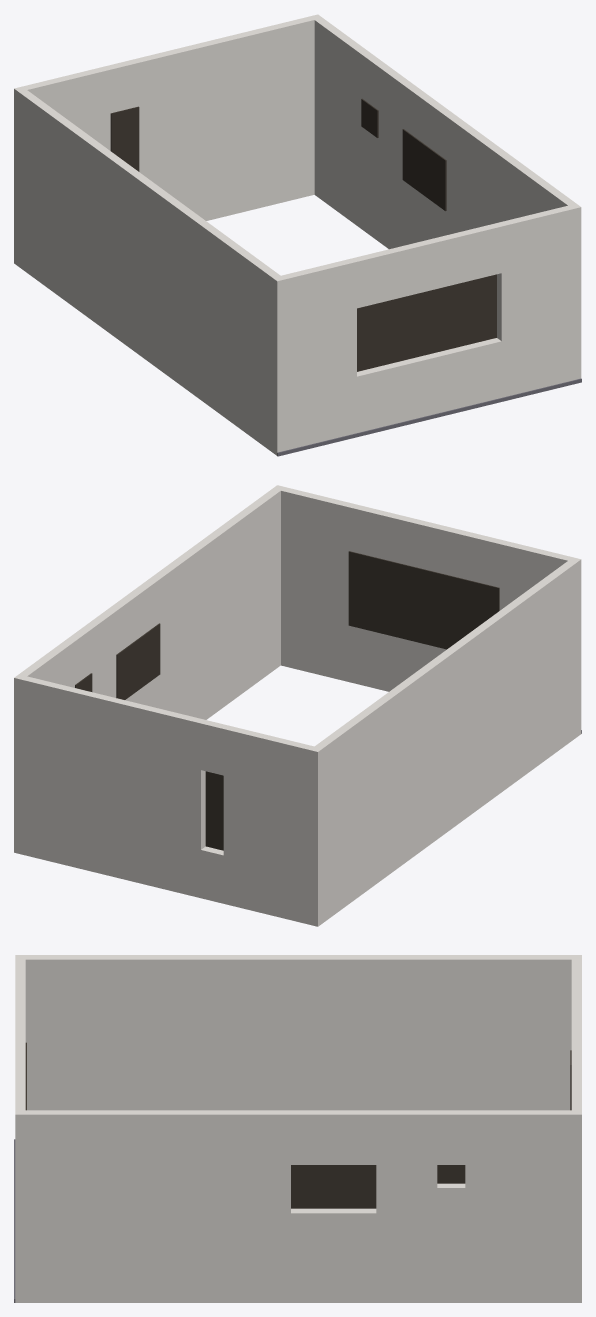
Rendered from SM_Floor_NarrowUpperWindowEndR_White_546_Back_01.gltf.
3 renders of one model, top to bottom at view 1: azimuth 30°, elevation 25°; view 2: azimuth 150°, elevation 25°; view 3: azimuth 270°, elevation 25°, orthographic. The views are drawn at different scales.
Visible parts, largest first — view 1: SM_Floor_NarrowUpperWindowEndR_White_546_Back_01; view 2: SM_Floor_NarrowUpperWindowEndR_White_546_Back_01; view 3: SM_Floor_NarrowUpperWindowEndR_White_546_Back_01.
Part boxes in pixels (left/top/right/bottom): SM_Floor_NarrowUpperWindowEndR_White_546_Back_01: left=14, top=14, right=581, bottom=456; SM_Floor_NarrowUpperWindowEndR_White_546_Back_01: left=14, top=485, right=581, bottom=926; SM_Floor_NarrowUpperWindowEndR_White_546_Back_01: left=14, top=955, right=581, bottom=1302.
Bounding box in the file's own units: 5.46 × 3 × 8.21.
1 material, 1 textured.
